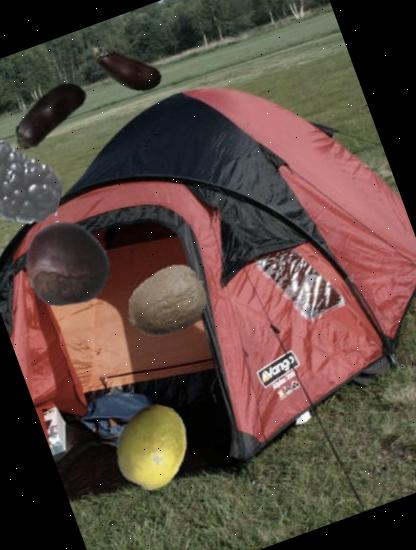Chestnut: (12, 207, 124, 318)
Eggplant: (0, 54, 107, 178), (74, 19, 176, 120)
Kiwi: (114, 248, 223, 357)
Maracuja: (97, 392, 206, 500)
Mulberry: (0, 112, 78, 249)
